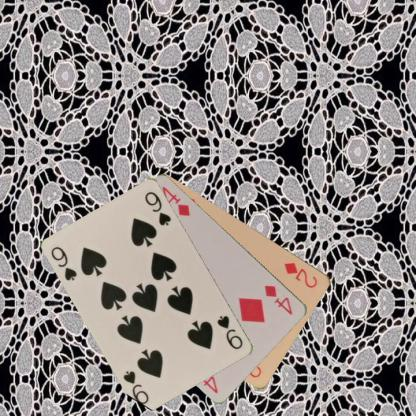2d: (281, 260, 319, 290)
4d: (262, 282, 294, 316)
9s: (214, 312, 244, 350), (49, 244, 78, 282)
